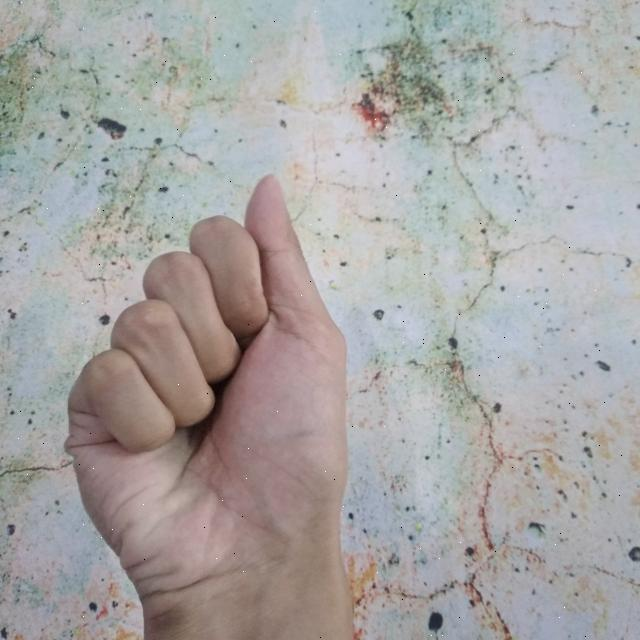A: (57, 162, 356, 640)
